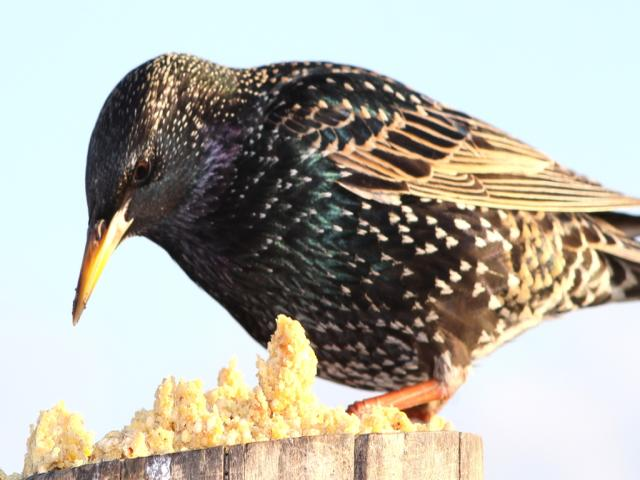Bird: (66, 49, 640, 434)
